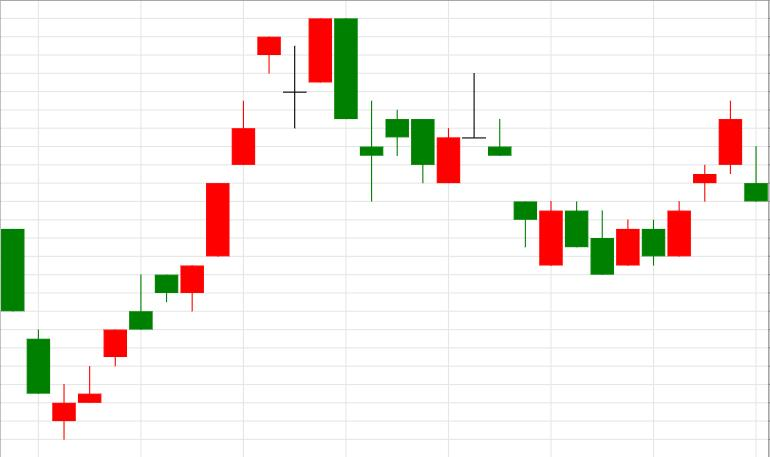bearish_engulfing_fall: (53, 19, 358, 440)
